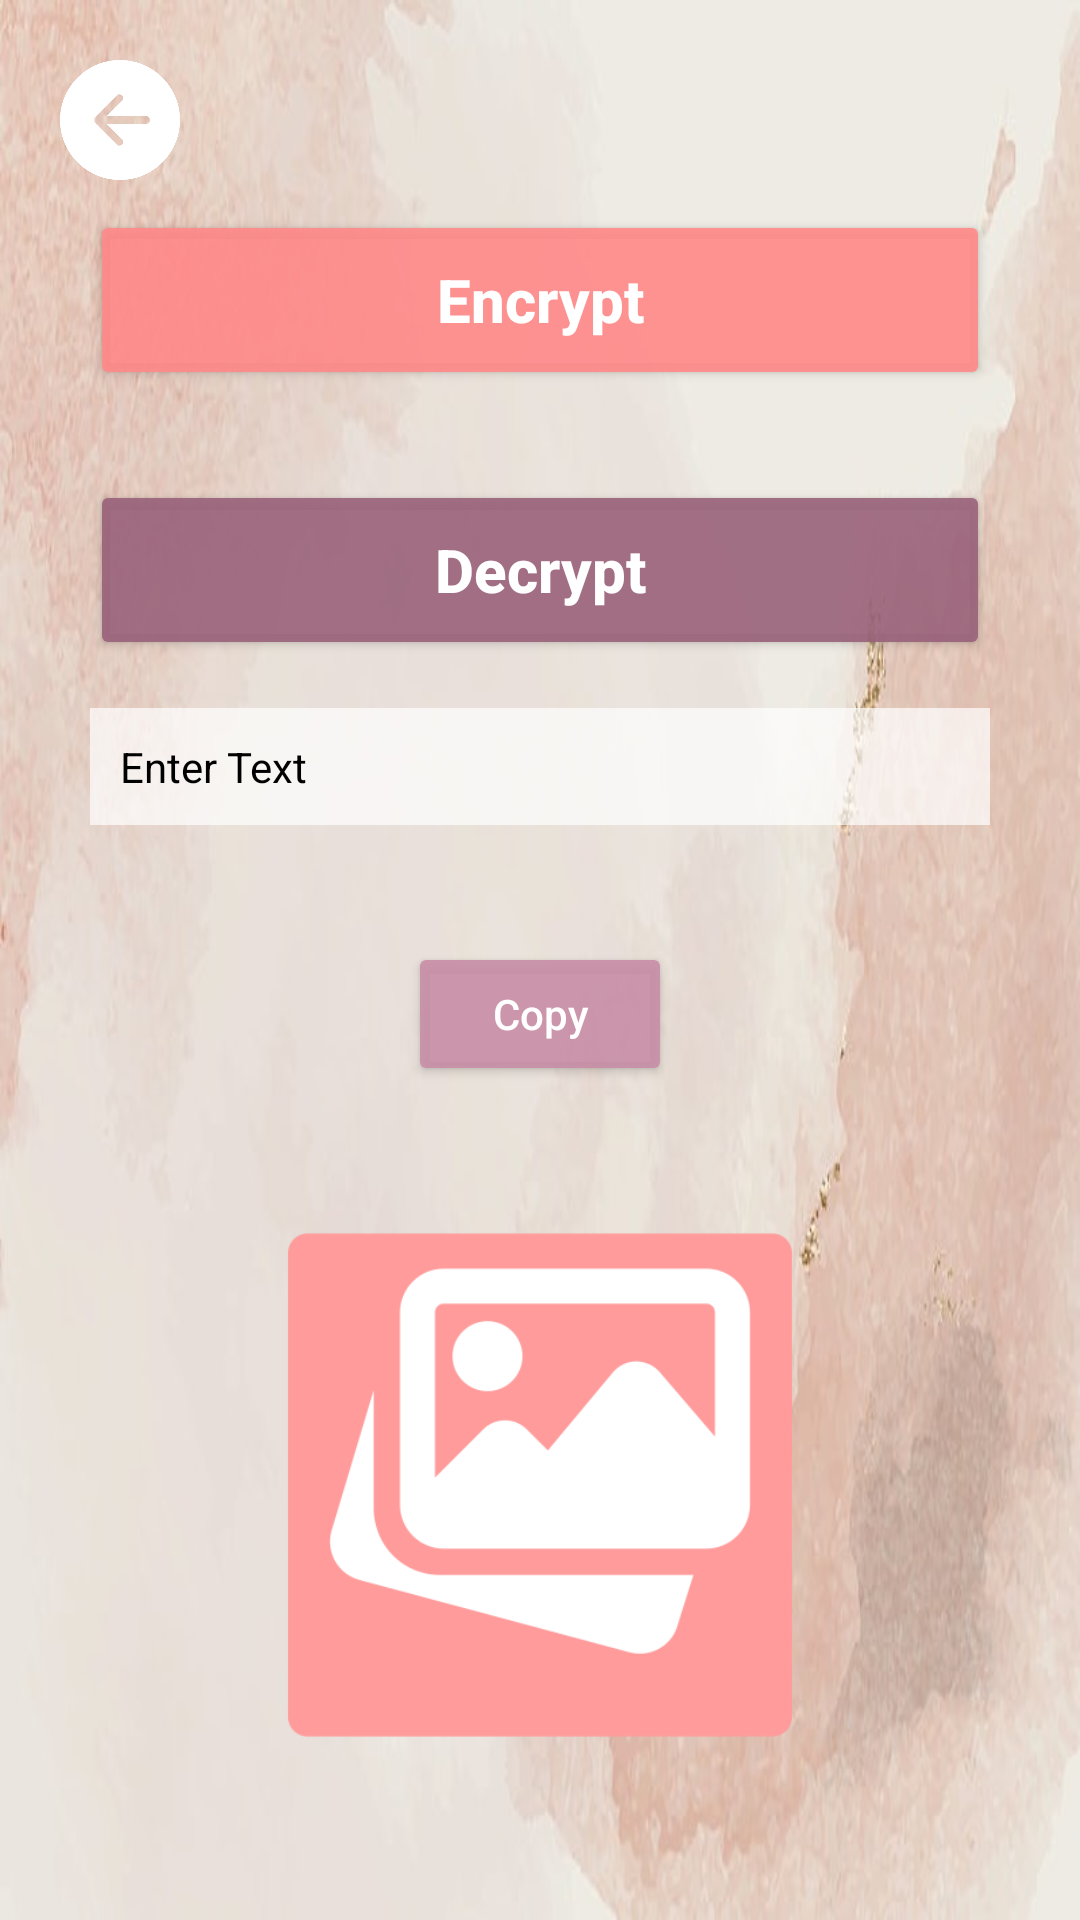

Screen size 1080w x 1920h. Icon name, then its box in pixels as (x1, y1, x2, y2):
back: (60, 60, 180, 180)
